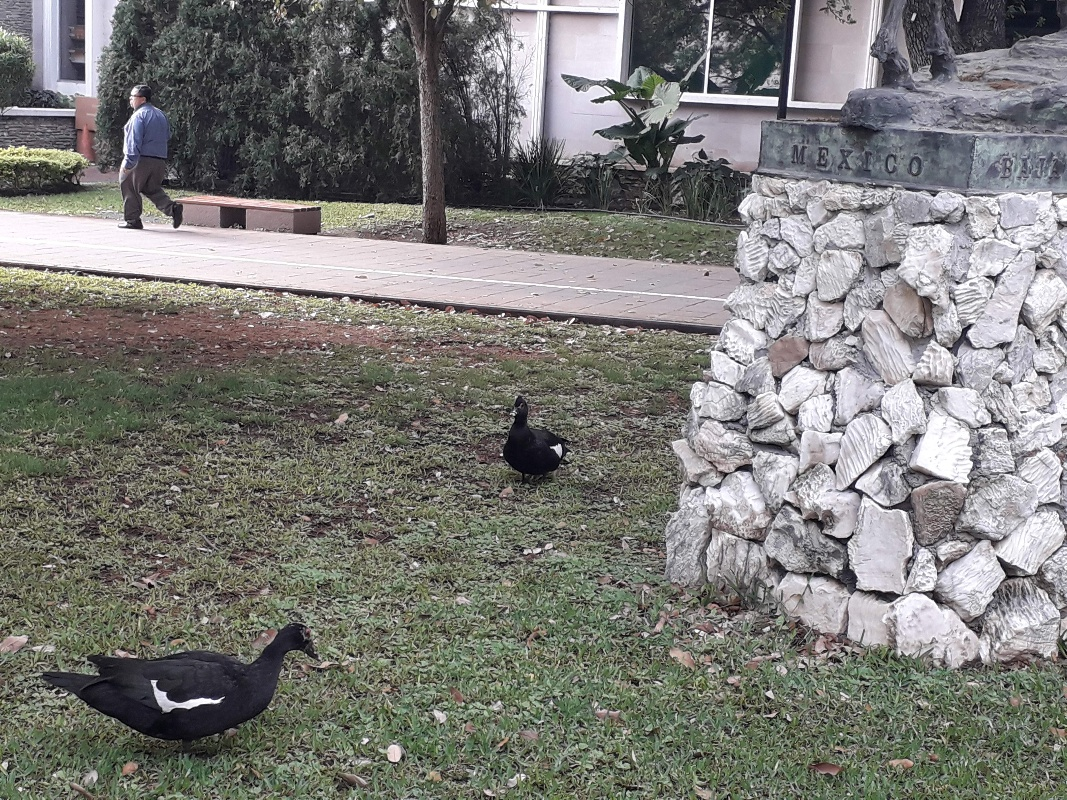pato: (54, 615, 323, 750), (510, 391, 566, 482)
